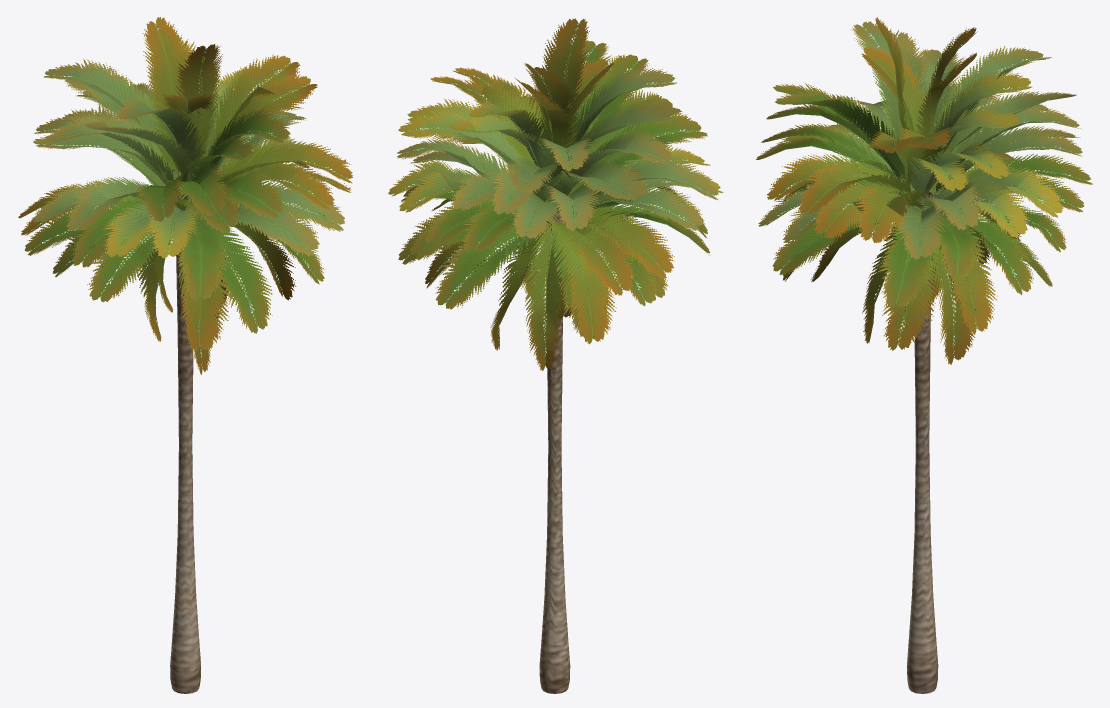
The model's file is palm-tall.glb.
The picture shows the model from 3 angles, left to right: view 1: azimuth 30°, elevation 25°; view 2: azimuth 150°, elevation 25°; view 3: azimuth 270°, elevation 25°; orthographic projection.
Visible parts, largest first — view 1: PALM; view 2: PALM; view 3: PALM.
Boxes of the visible parts, left/top/right/bottom form: PALM: left=18, top=17, right=352, bottom=693; PALM: left=388, top=18, right=723, bottom=693; PALM: left=756, top=17, right=1092, bottom=693.
Bounding box in the file's own units: 3.3 × 7 × 3.23.
Materials: 2 (2 with a texture image).
